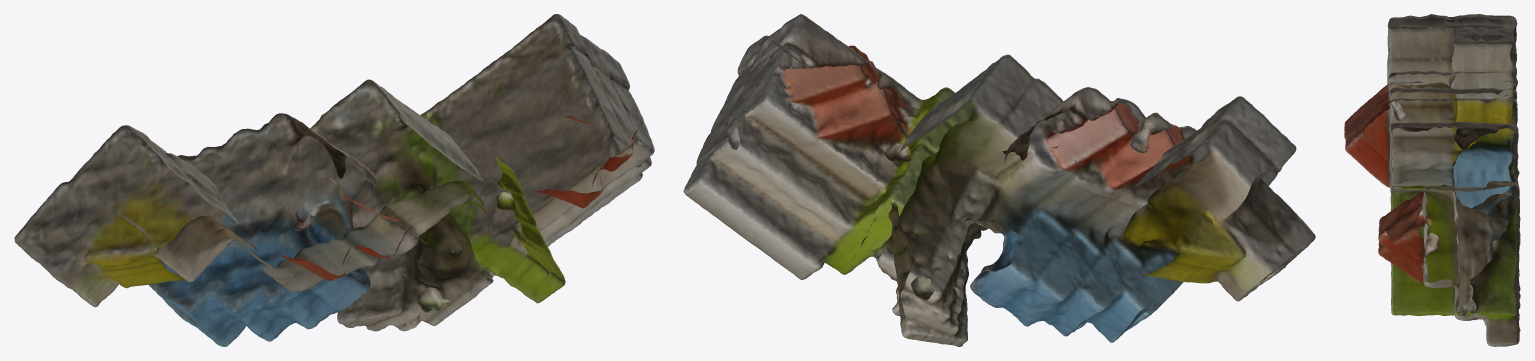
File: blocks.glb
The picture shows the model from 3 angles, left to right: view 1: azimuth 30°, elevation 25°; view 2: azimuth 150°, elevation 25°; view 3: azimuth 270°, elevation 25°; orthographic projection. The views are drawn at different scales.
Bounding box in the file's own units: 1 × 0.4096 × 0.3107.
